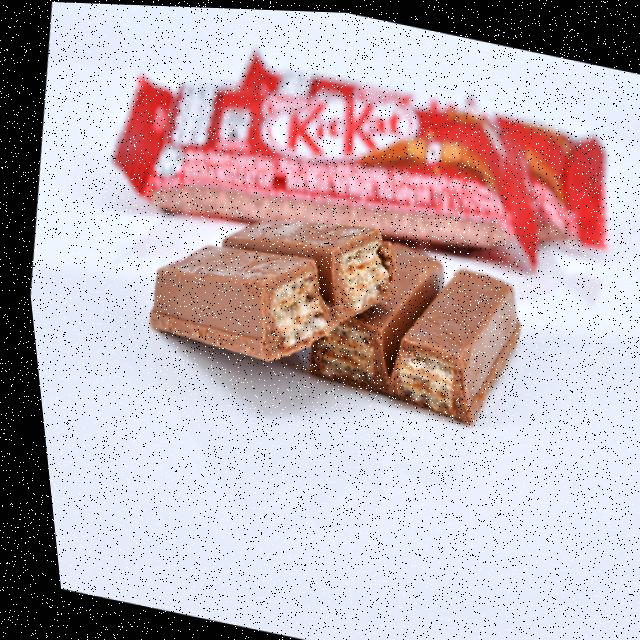kitkat: (96, 53, 556, 270)
